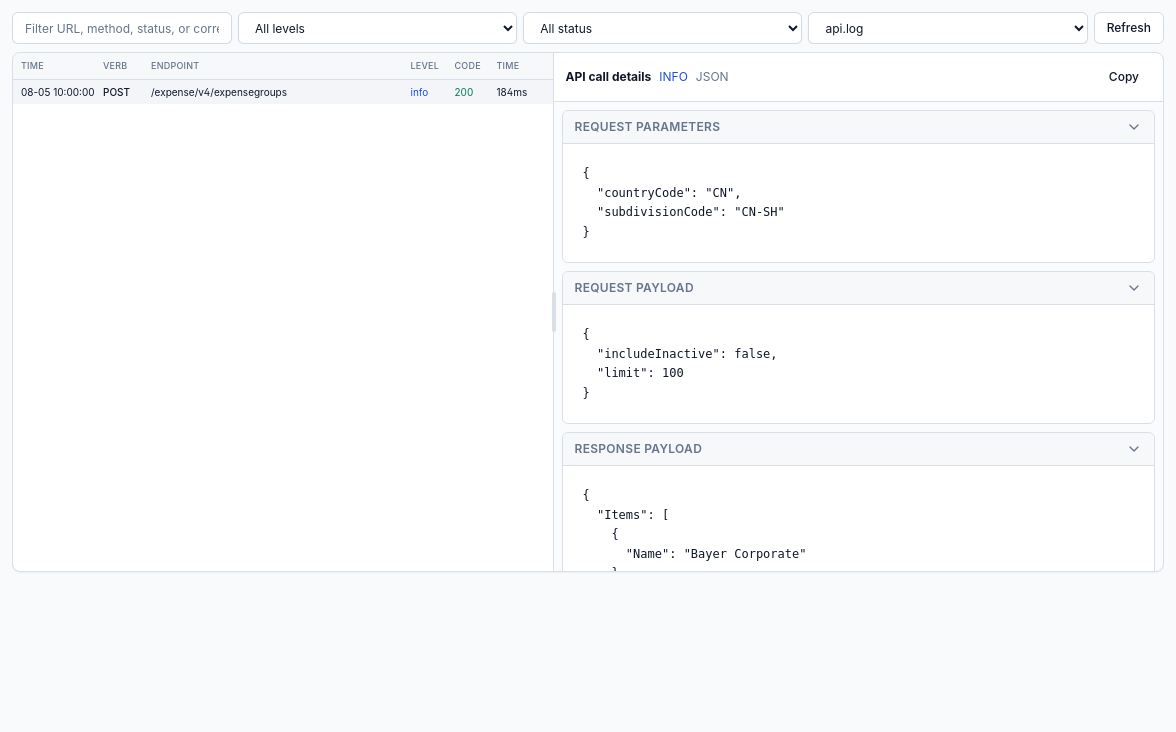
Test: ApiLogsView › filters compact rows and shows the selected response payload beside them
Check: the button "08-05 10:00:00 POST /expense/v4/expensegroups info 200 184ms" is shown, box [13,80,552,104]
Check: the text "184ms" is shown, box [496,86,527,98]
In the field named "Filter API logs": (122, 28) [12,12,232,44], type "not-found"
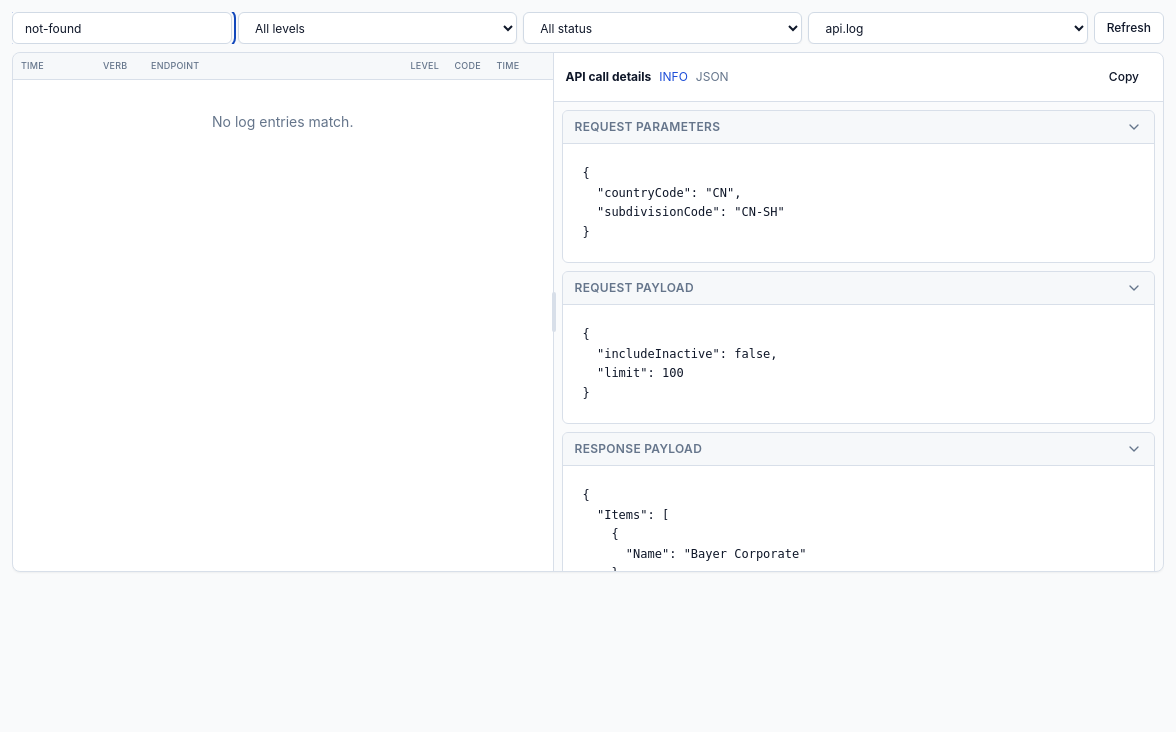
Check: the button "expensegroups" is gone
